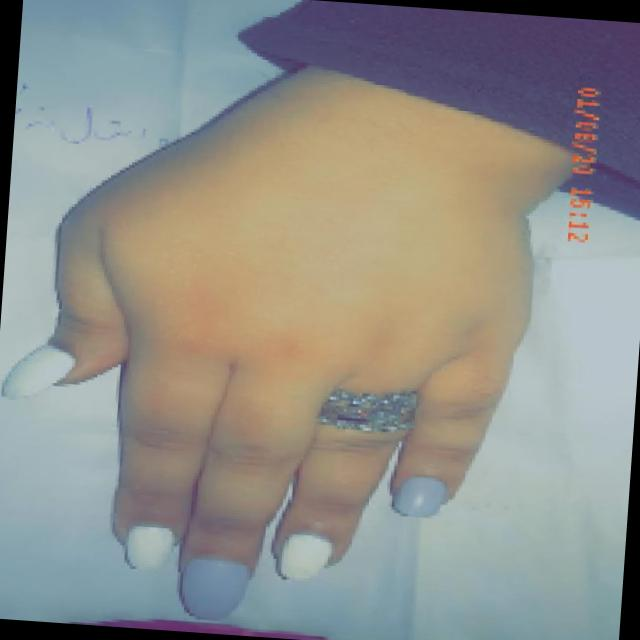Nail: (178, 556, 250, 618), (1, 344, 71, 396), (276, 531, 331, 578), (390, 475, 446, 517), (123, 524, 174, 568)
